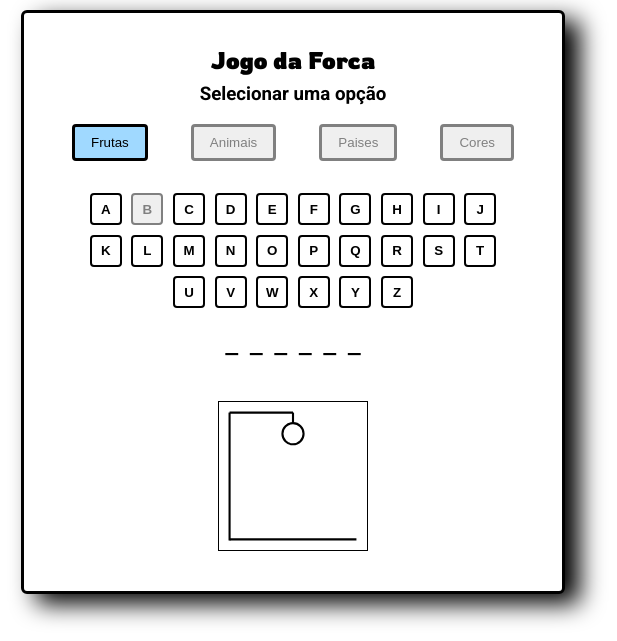
it: HangmanGame › seis erros perdem e "Novo jogo" volta para as categorias
Earlier steps of the test are not shown.
Click the button "C": point(189, 209) top-left (173, 193), bottom-right (205, 225)
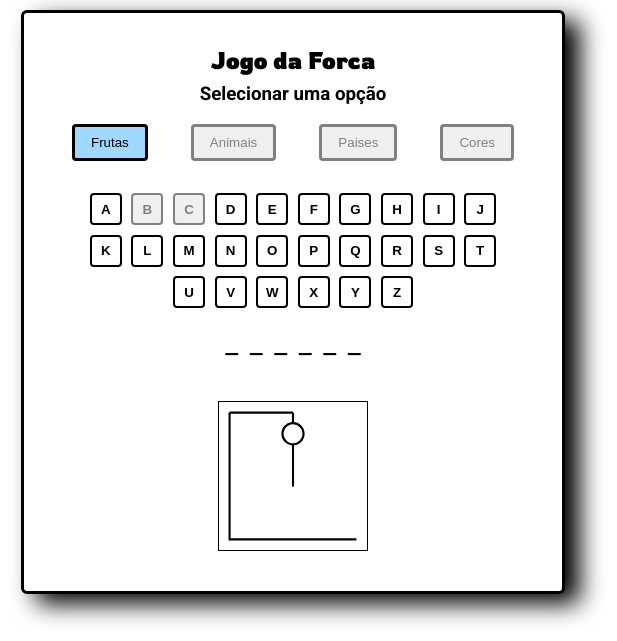
Click the button "D": point(231, 209) top-left (215, 193), bottom-right (247, 225)
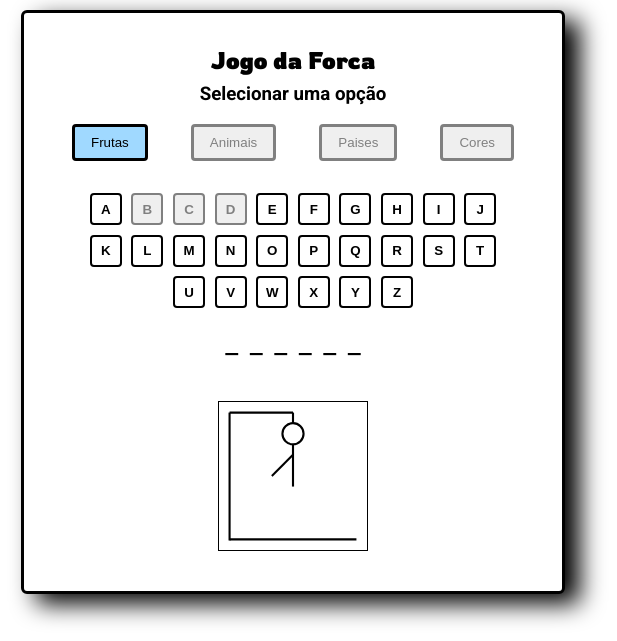
Click the button "F": point(314, 209) top-left (298, 193), bottom-right (330, 225)
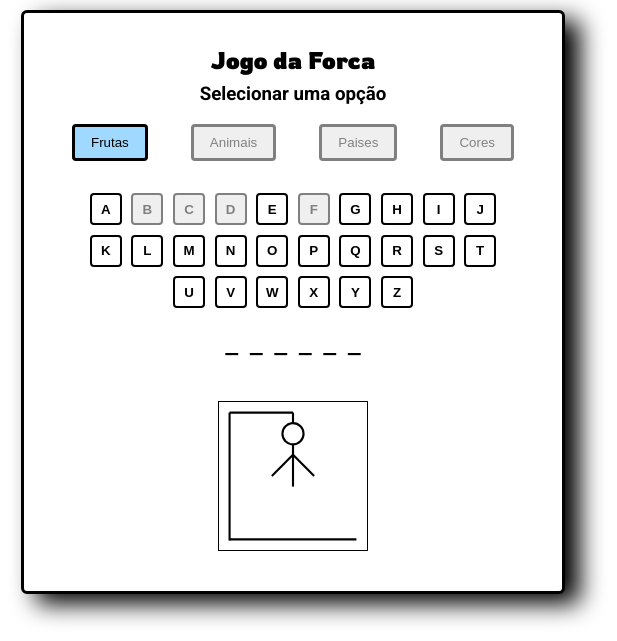
Click the button "G": point(355, 209) top-left (339, 193), bottom-right (371, 225)
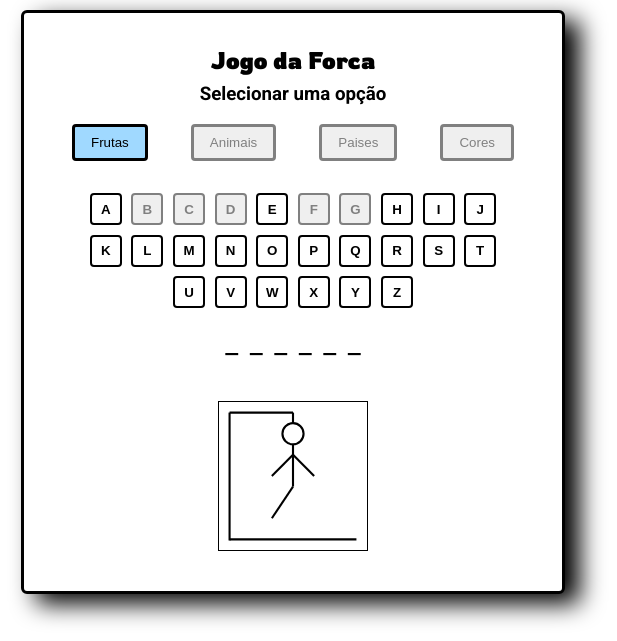
Click the button "H": point(397, 209) top-left (381, 193), bottom-right (413, 225)
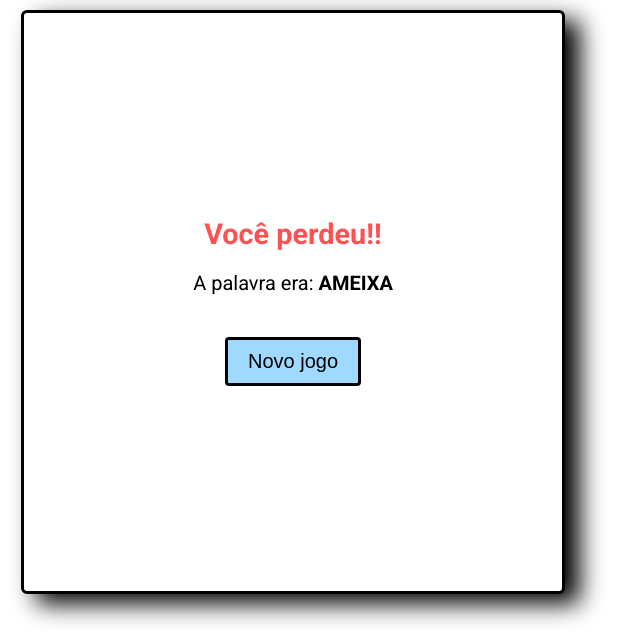
Expected: the heading "Você perdeu!!" is shown, top-left (193, 217), bottom-right (393, 251)
Click the button "Novo jogo": point(293, 362) top-left (225, 337), bottom-right (361, 386)
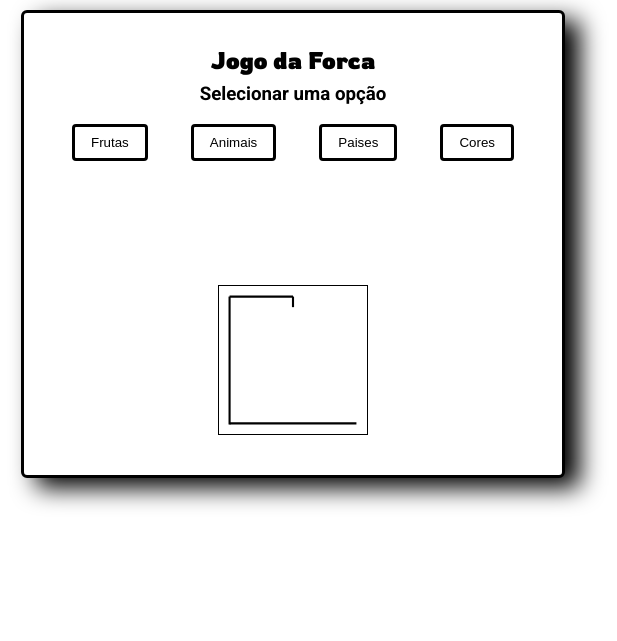
Expected: the button "Frutas" is enabled, top-left (72, 124), bottom-right (148, 161)
Expected: the heading "Você perdeu!!" is gone
